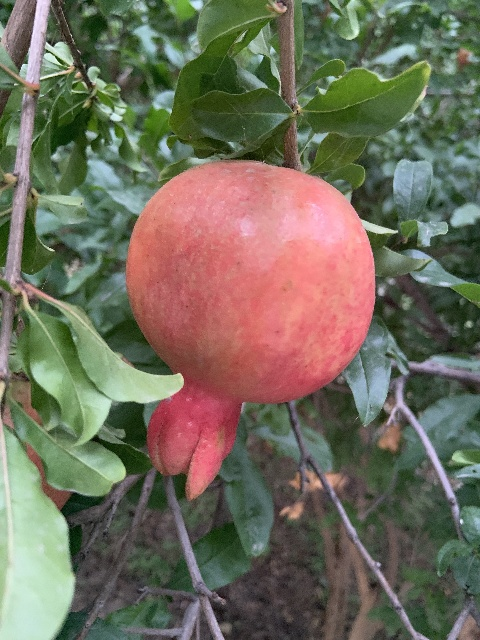flower: (0, 379, 73, 512)
ripe: (126, 158, 372, 502)
